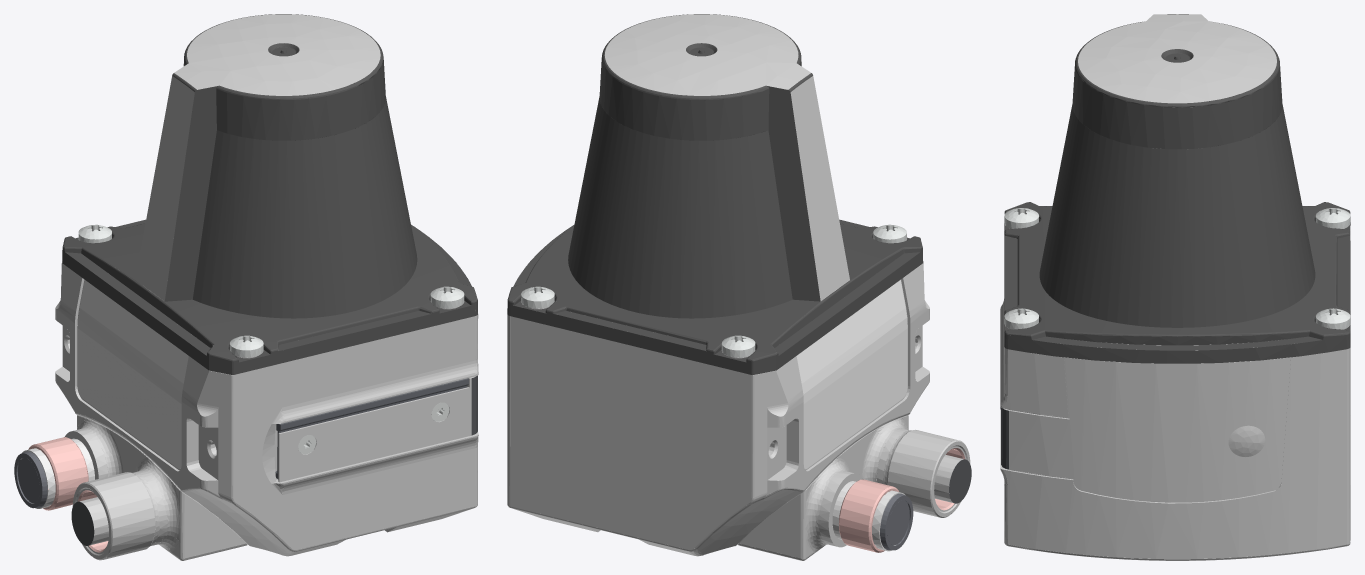
The model's file is sick_tim5series.dae.
The picture shows the model from 3 angles, left to right: view 1: azimuth 30°, elevation 25°; view 2: azimuth 150°, elevation 25°; view 3: azimuth 270°, elevation 25°; orthographic projection. The views are drawn at different scales.
Visible parts, largest first — view 1: Untitled, Untitled_001; view 2: Untitled, Untitled_001; view 3: Untitled.
Part boxes in pixels (box(x1,y1,x2,y2)): Untitled: box(55, 14, 478, 556); Untitled_001: box(14, 415, 247, 560); Untitled: box(507, 14, 929, 556); Untitled_001: box(738, 415, 971, 560); Untitled: box(1000, 14, 1350, 560).
Bounding box in the file's own units: 0.0763 × 0.0607 × 0.0859.
